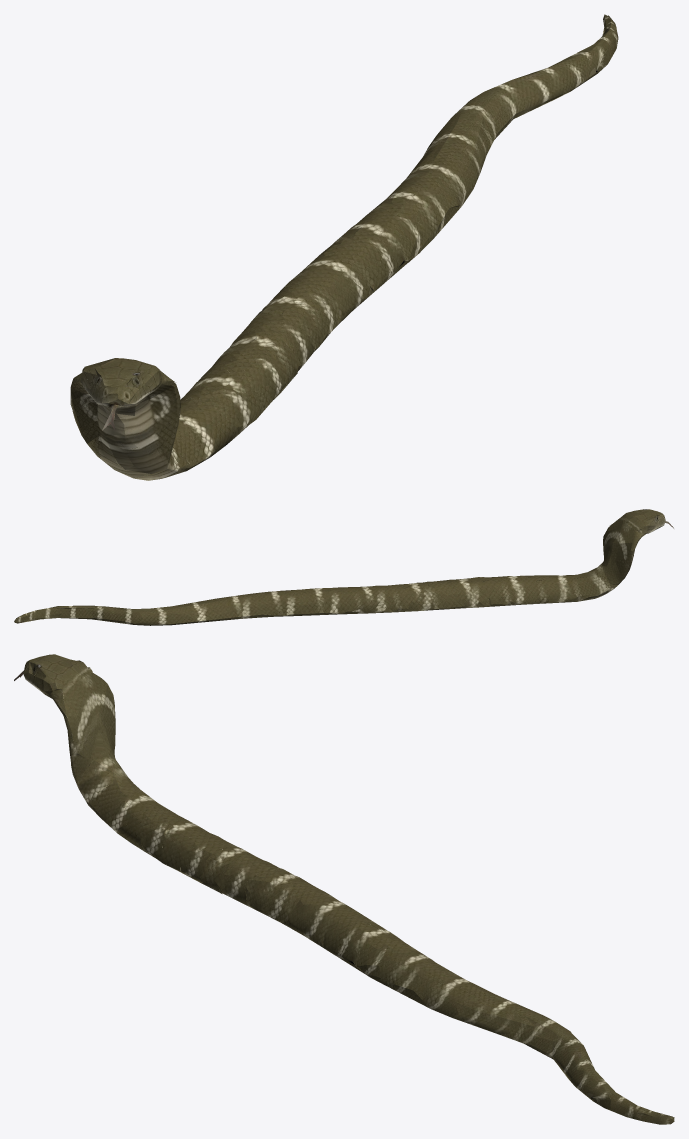
The model's file is king-cobra.glb.
3 renders of one model, top to bottom at view 1: azimuth 30°, elevation 25°; view 2: azimuth 150°, elevation 25°; view 3: azimuth 270°, elevation 25°, orthographic. The views are drawn at different scales.
Visible parts, largest first — view 1: output_unwrapped; view 2: output_unwrapped; view 3: output_unwrapped.
Part boxes in pixels (x1,y1,x2,y2): output_unwrapped: (70,14,618,480); output_unwrapped: (14,509,673,625); output_unwrapped: (14,654,674,1124).
Size of the model in its own units: 3 by 0.4775 by 2.35.
1 material, 1 textured.
